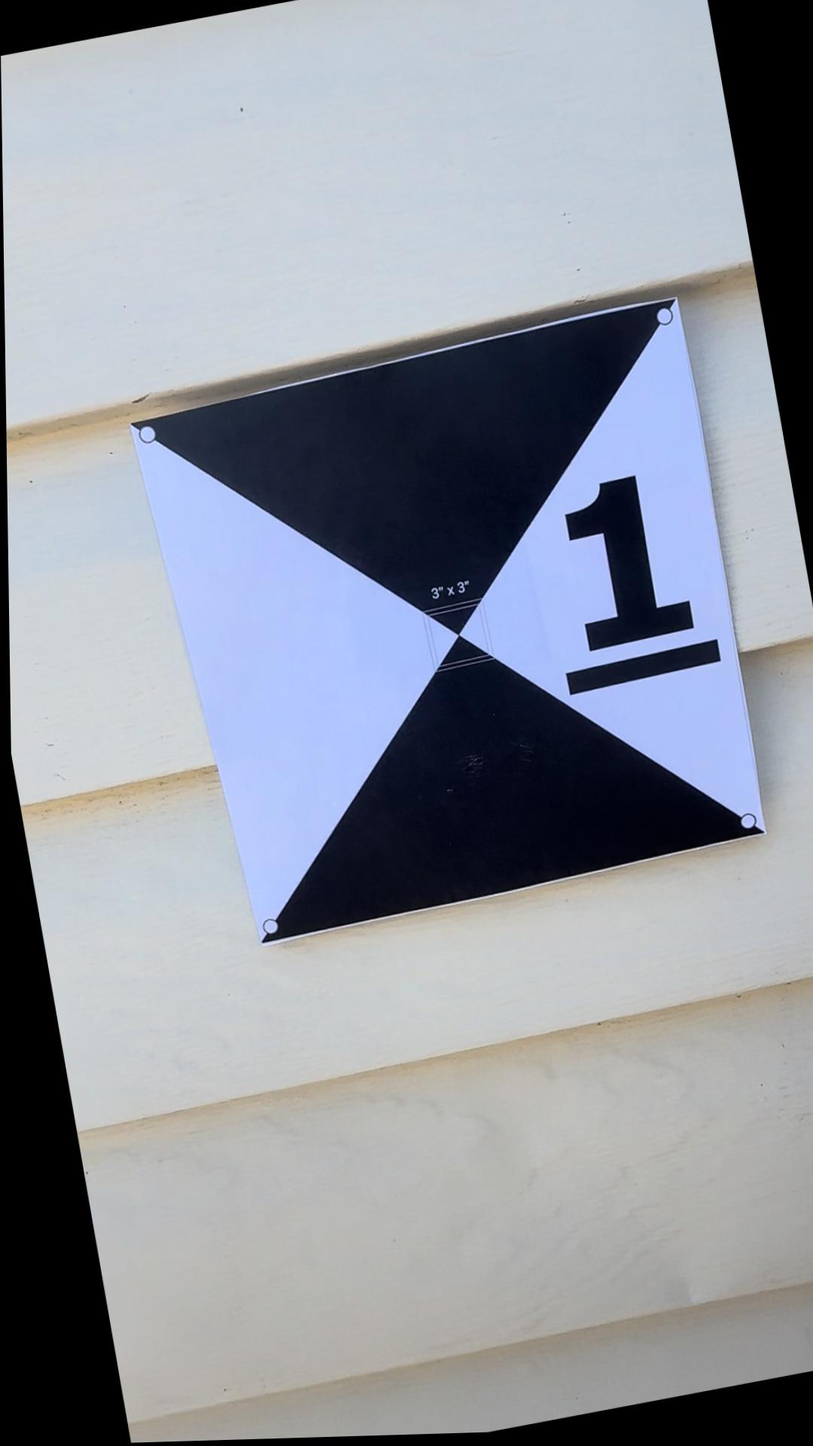target1: (117, 268, 783, 965)
